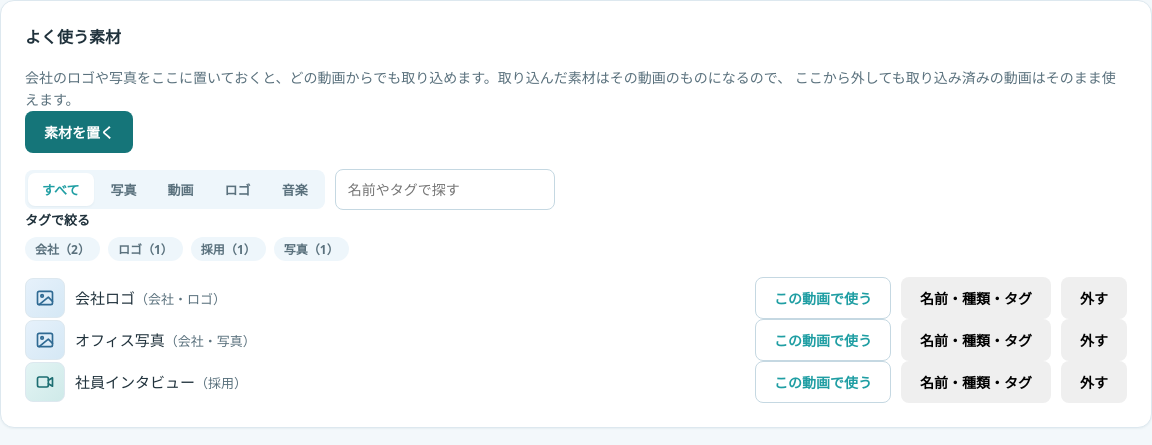
Test: AssetLibraryPanel › 名前でも絞り込む
The width and height of the screenshot is (1152, 445).
Expected: the text "会社ロゴ" is shown, [75,288,135,308]
Type "オフィス" into the search field named "よく使う素材を名前やタグで探す" at (445, 190), box [335,169,555,210]
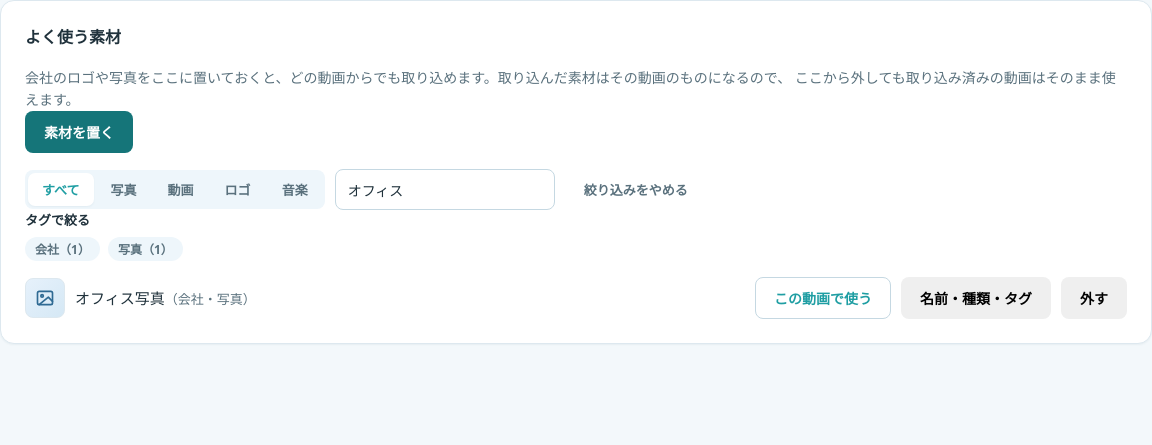
Expected: the text "オフィス写真" is shown, [75,288,165,308]
Expected: the text "会社ロゴ" is gone
